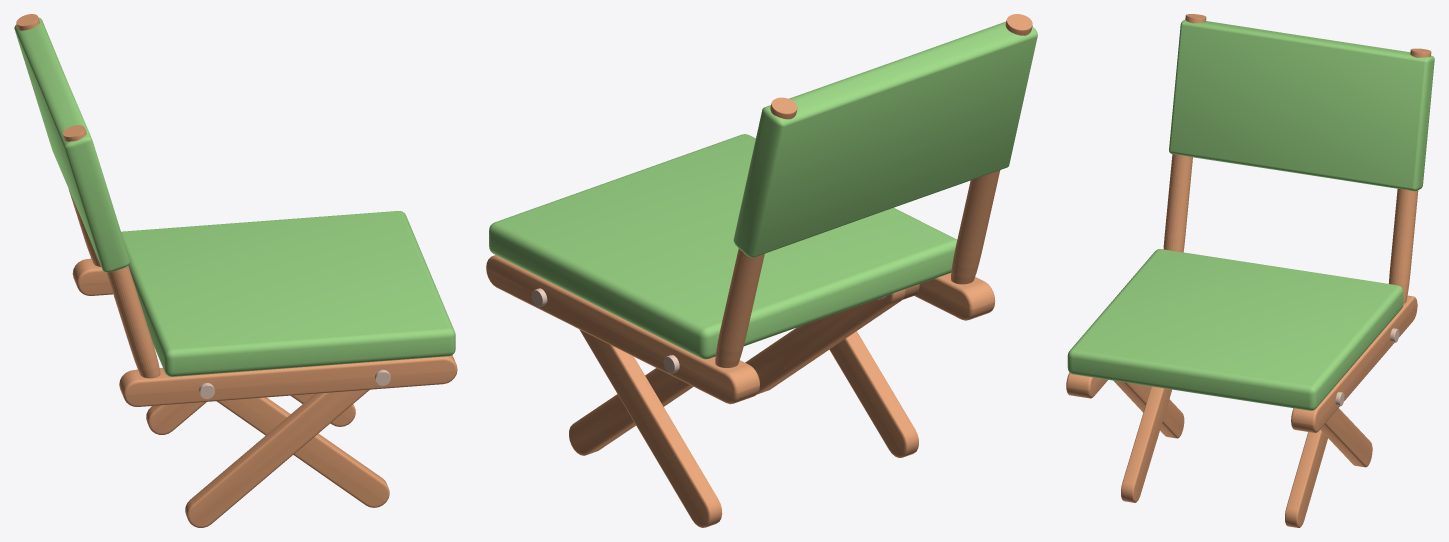
The model's file is chair.glb.
3 renders of one model, left to right at view 1: azimuth 30°, elevation 25°; view 2: azimuth 150°, elevation 25°; view 3: azimuth 270°, elevation 25°, orthographic. The views are drawn at different scales.
Parts seen in each view (by area): view 1: 椅子; view 2: 椅子; view 3: 椅子.
Boxes of the visible parts, x1=… form: 椅子: x1=14, y1=14, x2=457, y2=527; 椅子: x1=486, y1=14, x2=1037, y2=527; 椅子: x1=1066, y1=14, x2=1434, y2=527.
Size of the model in its own units: 3.2 by 3.11 by 2.78.
